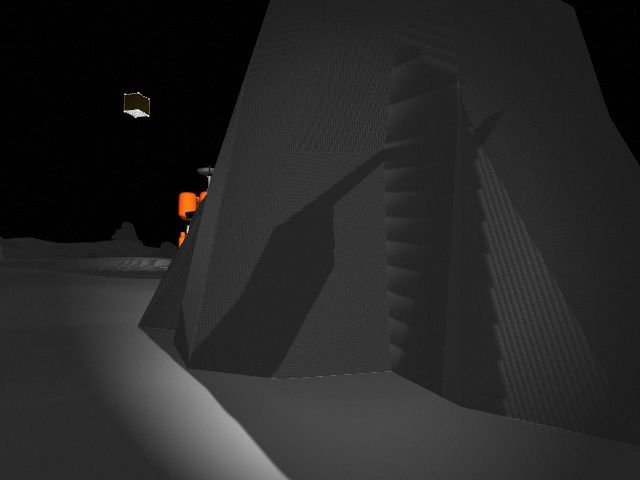cubesat: (116, 87, 156, 128)
